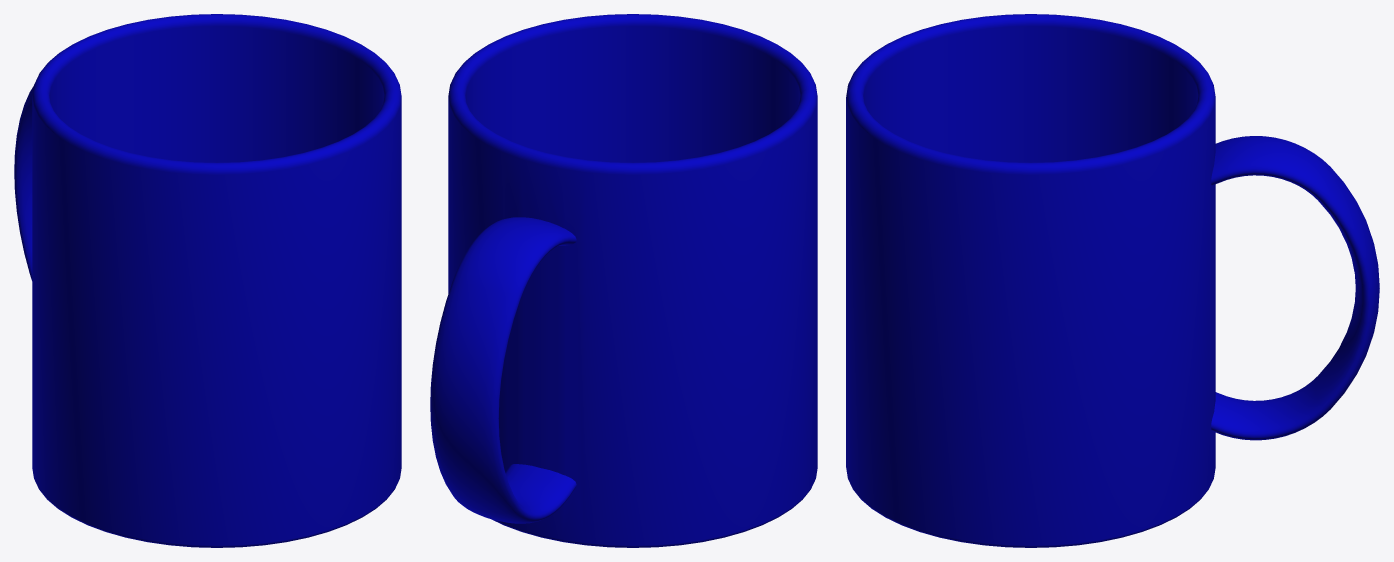
The picture shows the model from 3 angles, left to right: view 1: azimuth 30°, elevation 25°; view 2: azimuth 150°, elevation 25°; view 3: azimuth 270°, elevation 25°; orthographic projection.
Visible parts, largest first — view 1: mesh1_mesh1-geometry; view 2: mesh1_mesh1-geometry; view 3: mesh1_mesh1-geometry.
Boxes of the visible parts, x1,y1,x2,y2 form: mesh1_mesh1-geometry: [14, 14, 401, 547]; mesh1_mesh1-geometry: [430, 14, 817, 547]; mesh1_mesh1-geometry: [846, 14, 1379, 547].
Bounding box in the file's own units: 0.4774 × 0.5448 × 0.6895.
